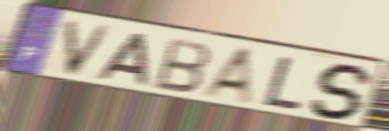A: (198, 45, 257, 109), (95, 31, 150, 89)
B: (152, 36, 213, 95)
L: (260, 54, 304, 113)
S: (308, 62, 377, 121)
V: (61, 17, 115, 80)
